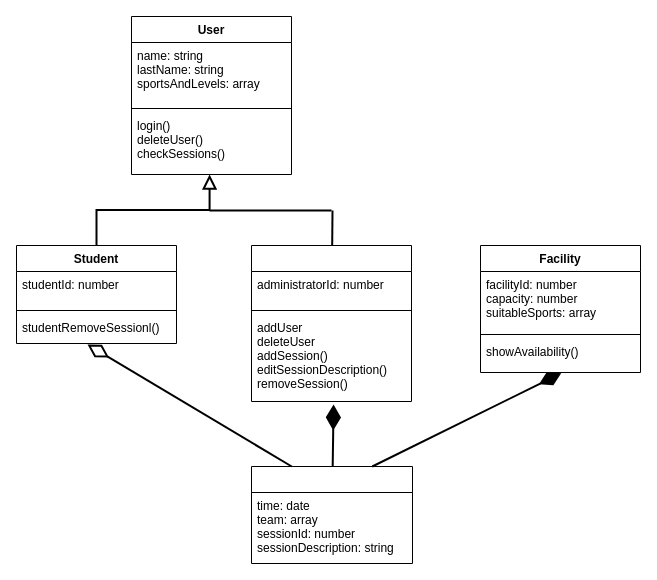
The diagram is 657 pixels wide and 580 high, and some of its shapes have lost their labels. The box of each missing label's shape, as (x1, y1, x2, y2) in pixels:
Coach: (250, 244, 412, 402)
TrainingSession: (250, 466, 412, 564)
